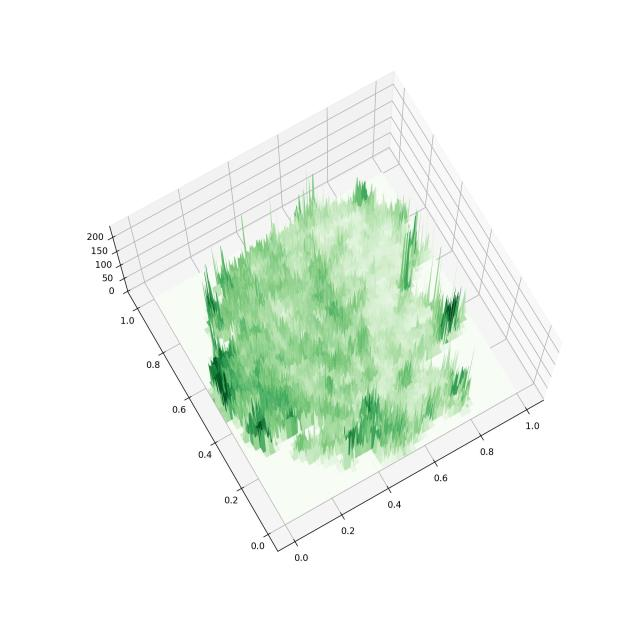pine: (61, 22, 582, 608)
